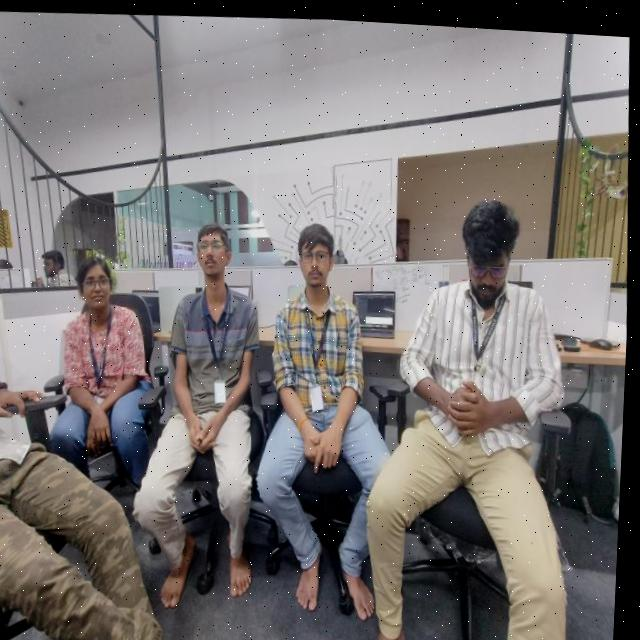id_card: (192, 286, 249, 410), (298, 297, 345, 413), (460, 279, 509, 383), (77, 308, 118, 396)
